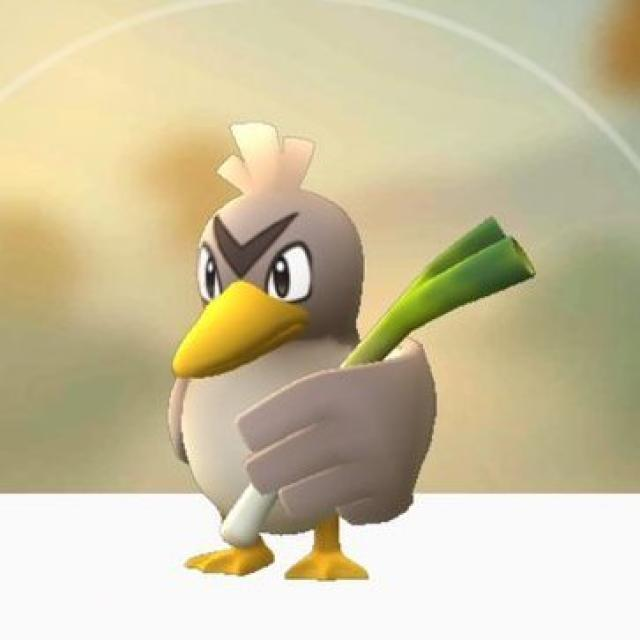Farfetchd: (144, 108, 460, 585)
